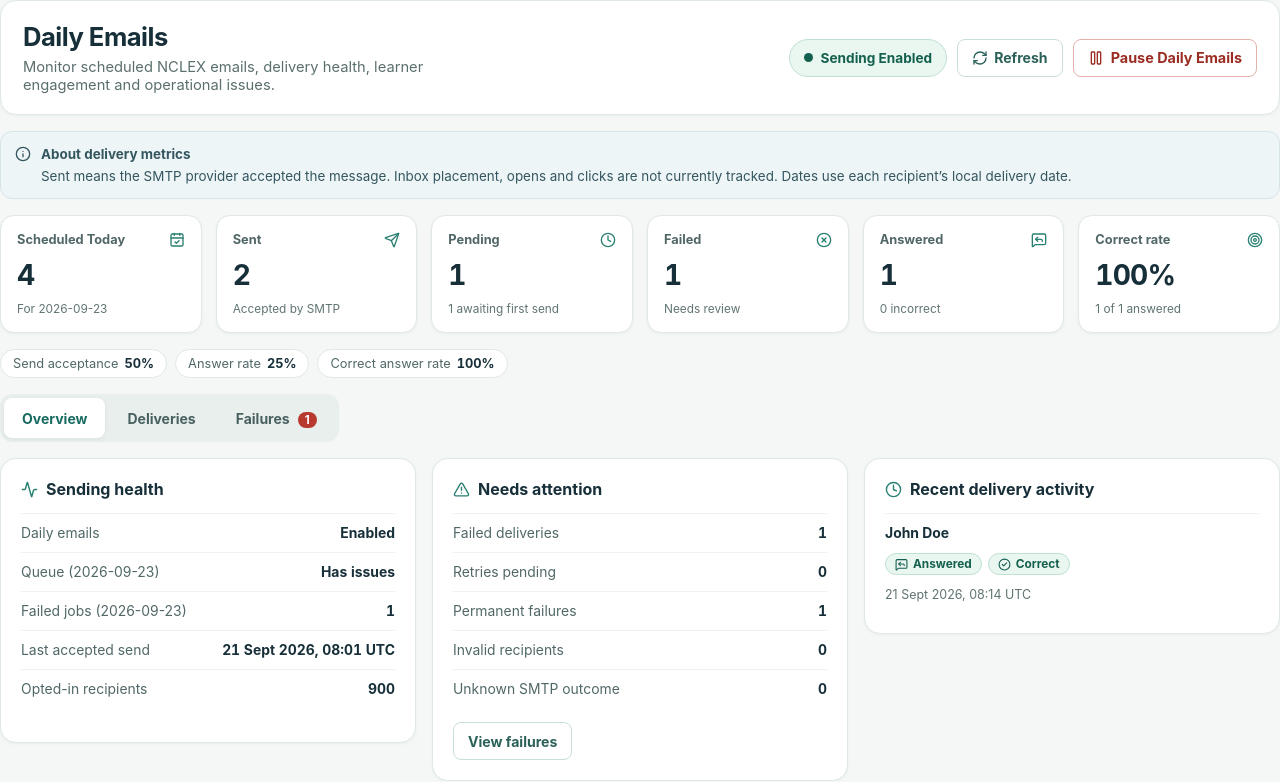
a failed pause update is reported and Escape closes the dialog
The width and height of the screenshot is (1280, 782).
Click the button "Pause Daily Emails" at (1165, 58), box top-left (1073, 38), bottom-right (1257, 76)
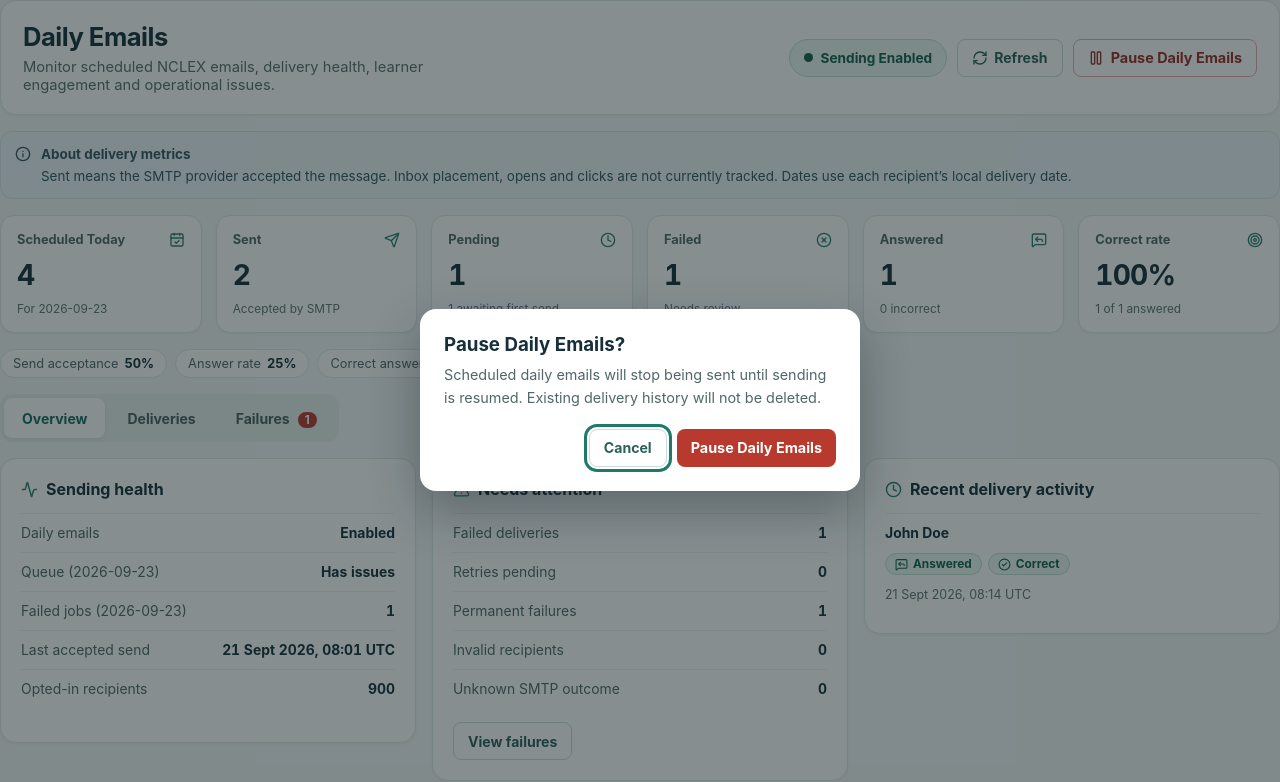
Press Escape
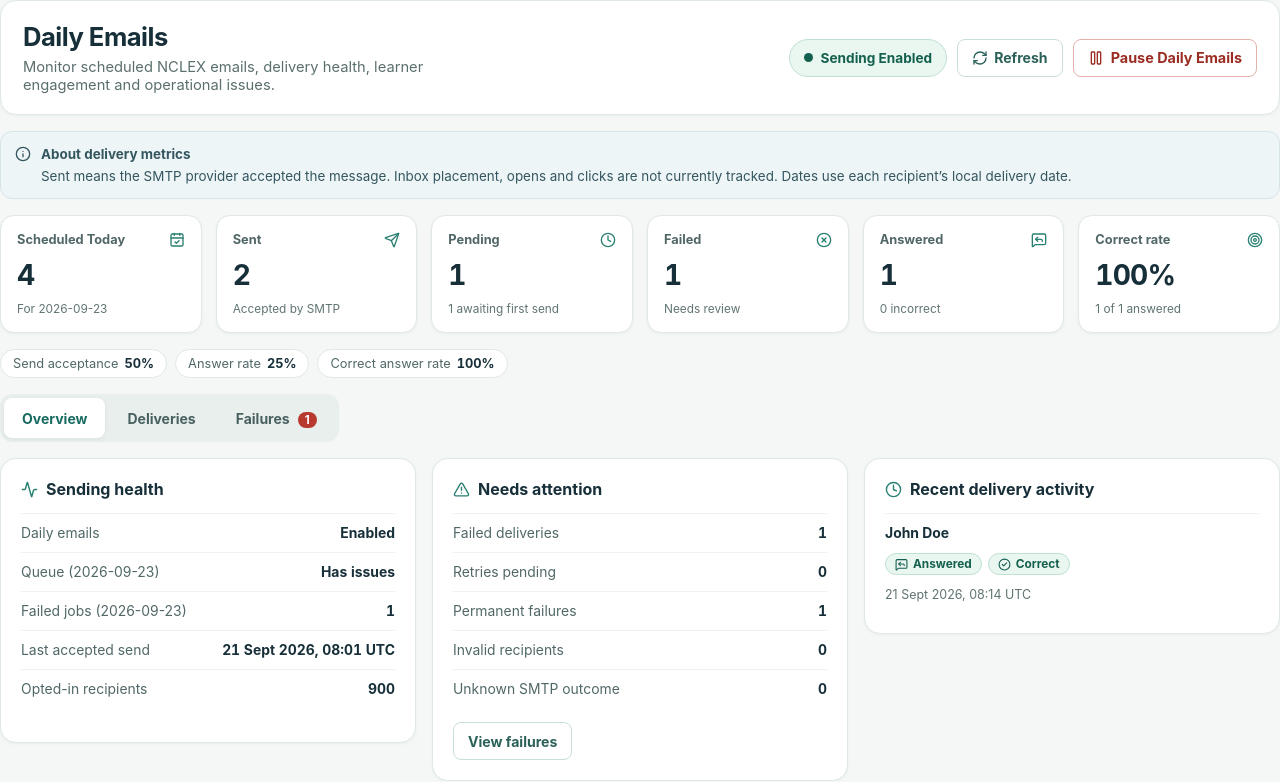
Expected: the dialog is gone
Click the button "Pause Daily Emails" at (1165, 58), box top-left (1073, 38), bottom-right (1257, 76)
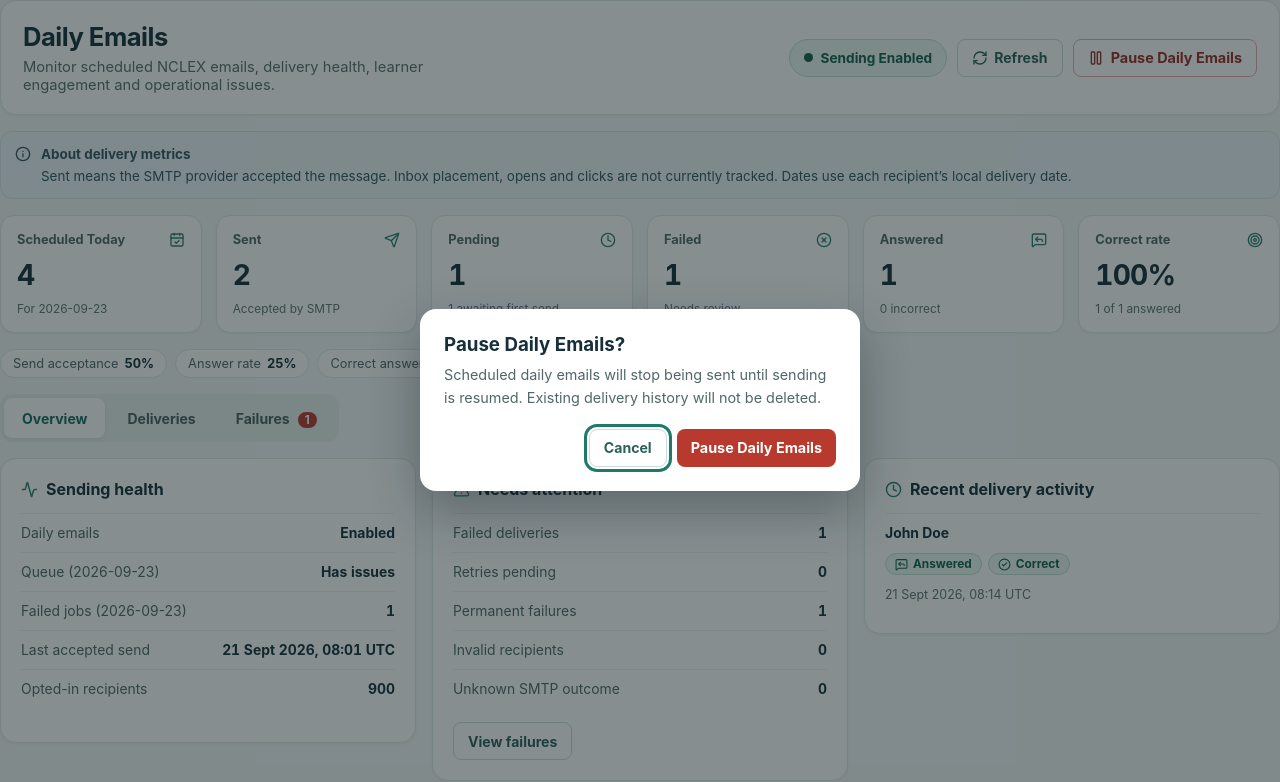
Click the button "Pause Daily Emails" at (756, 448), box top-left (677, 429), bottom-right (836, 467)
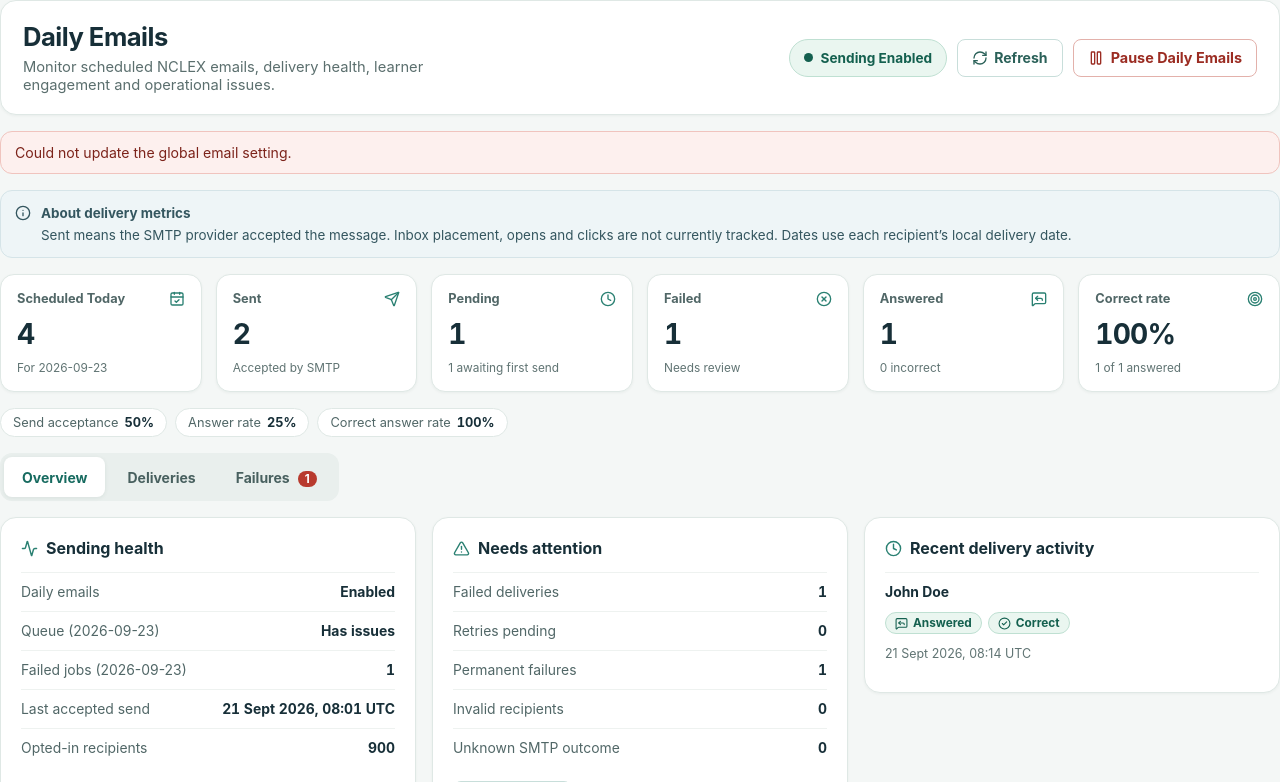
Expected: the message "Could not update the global email setting." is shown, top-left (0, 131), bottom-right (1279, 174)
